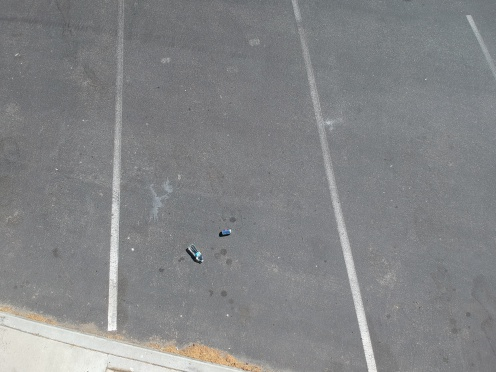bottle: (178, 240, 208, 264)
can: (216, 222, 236, 238)
